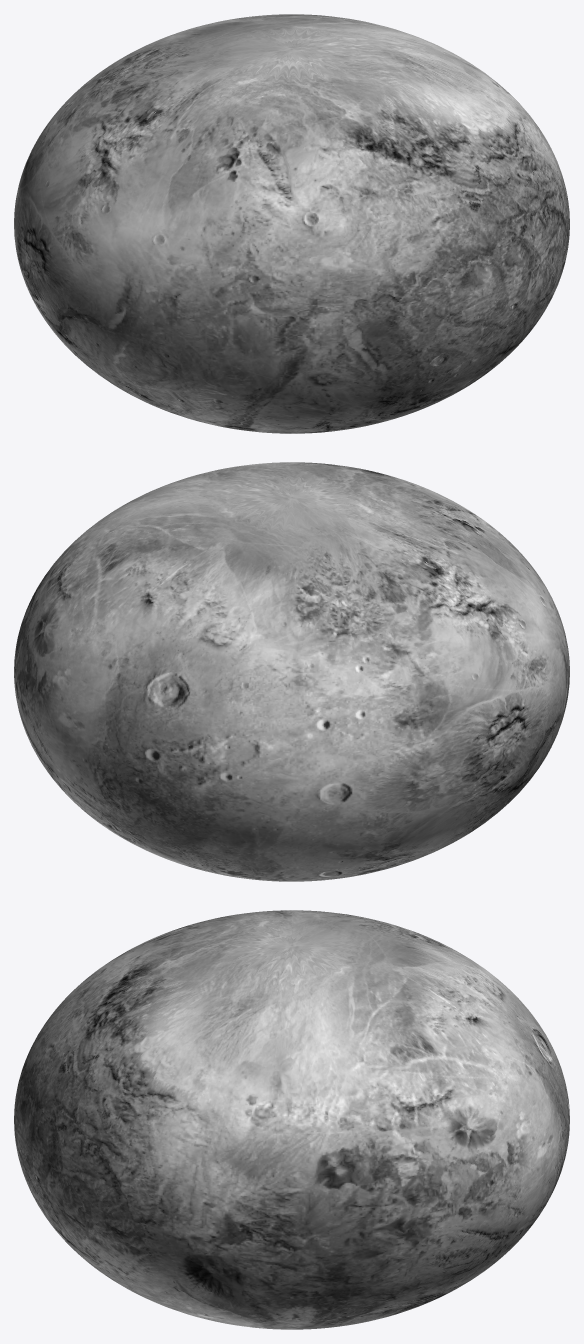
Rendered from haumea.fbx.
The picture shows the model from 3 angles, top to bottom: view 1: azimuth 30°, elevation 25°; view 2: azimuth 150°, elevation 25°; view 3: azimuth 270°, elevation 25°; orthographic projection.
Parts seen in each view (by area): view 1: Kugel; view 2: Kugel; view 3: Kugel.
Part boxes in pixels (left/top/right/bottom): Kugel: left=14, top=14, right=569, bottom=433; Kugel: left=14, top=462, right=569, bottom=881; Kugel: left=14, top=910, right=569, bottom=1329.
Bounding box in the file's own units: 395 × 273 × 395.
